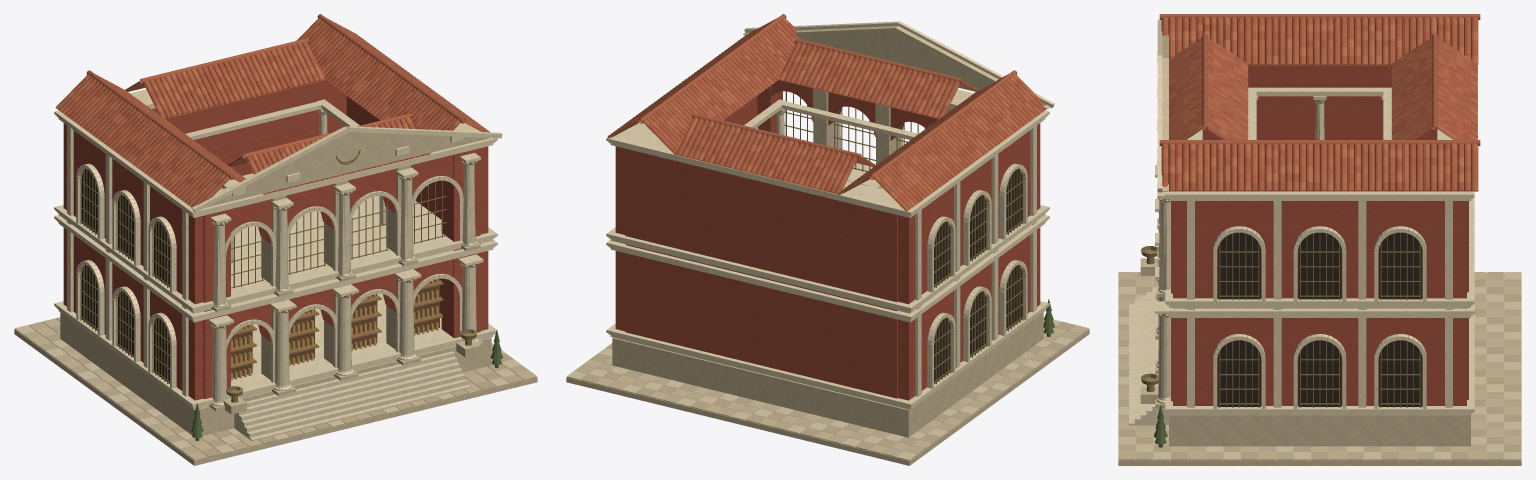
File: bibliothek.glb
3 renders of one model, left to right at view 1: azimuth 30°, elevation 25°; view 2: azimuth 150°, elevation 25°; view 3: azimuth 270°, elevation 25°, orthographic. The views are drawn at different scales.
Visible parts, largest first — view 1: Limestone_trim.003, Limestone_trim.001, Pompeian_red.003, Travertine.003, Tile_0.003, Travertine.001, Pompeian_red.001, Tile_1.003, Bronze.003, Bronze.001, Interior_shadow.003, Tile_2.003 (+17 smaller); view 2: Pompeian_red.003, Pompeian_red.001, Limestone_trim.003, Limestone_trim.001, Travertine.003, Travertine.001, Tile_0.003, Tile_1.003, Tile_2.003, Tile_4.003, Tile_3.003, Tile_5.003 (+11 smaller); view 3: Pompeian_red.003, Limestone_trim.003, Limestone_trim.001, Tile_0.003, Pompeian_red.001, Interior_shadow.003, Travertine.003, Travertine.001, Tile_1.003, Tile_2.003, Tile_3.003, Tile_4.003 (+12 smaller).
Part boxes in pixels (left/top/right/bottom): Limestone_trim.003: left=54, top=89, right=502, bottom=440; Limestone_trim.001: left=54, top=89, right=497, bottom=441; Pompeian_red.003: left=64, top=80, right=487, bottom=400; Travertine.003: left=15, top=127, right=536, bottom=464; Tile_0.003: left=61, top=19, right=484, bottom=202; Travertine.001: left=14, top=165, right=537, bottom=465; Pompeian_red.001: left=63, top=91, right=488, bottom=400; Tile_1.003: left=55, top=14, right=489, bottom=204; Bronze.003: left=80, top=150, right=476, bottom=402; Bronze.001: left=80, top=152, right=474, bottom=390; Interior_shadow.003: left=81, top=168, right=169, bottom=383; Tile_2.003: left=56, top=23, right=494, bottom=207; Pompeian_red.003: left=616, top=80, right=1039, bottom=400; Pompeian_red.001: left=615, top=86, right=1040, bottom=400; Limestone_trim.003: left=606, top=21, right=1054, bottom=409; Limestone_trim.001: left=606, top=89, right=1049, bottom=409; Travertine.003: left=567, top=26, right=1088, bottom=464; Travertine.001: left=566, top=88, right=1089, bottom=465; Tile_0.003: left=617, top=18, right=1039, bottom=205; Tile_1.003: left=607, top=14, right=1045, bottom=211; Tile_2.003: left=609, top=35, right=1046, bottom=211; Tile_4.003: left=614, top=20, right=1044, bottom=201; Tile_3.003: left=619, top=17, right=1033, bottom=206; Tile_5.003: left=617, top=19, right=1041, bottom=192; Pompeian_red.003: left=1171, top=65, right=1468, bottom=405; Limestone_trim.003: left=1129, top=20, right=1474, bottom=426; Limestone_trim.001: left=1129, top=52, right=1474, bottom=425; Tile_0.003: left=1161, top=17, right=1478, bottom=190; Pompeian_red.001: left=1171, top=65, right=1468, bottom=405; Interior_shadow.003: left=1217, top=232, right=1422, bottom=406; Travertine.003: left=1119, top=35, right=1520, bottom=464; Travertine.001: left=1118, top=150, right=1521, bottom=465; Tile_1.003: left=1159, top=14, right=1480, bottom=190; Tile_2.003: left=1161, top=17, right=1478, bottom=191; Tile_3.003: left=1168, top=17, right=1478, bottom=190; Tile_4.003: left=1162, top=17, right=1477, bottom=190.
Size of the model in its own units: 22 by 17.37 by 20.
Materials: 19 (6 with a texture image).
